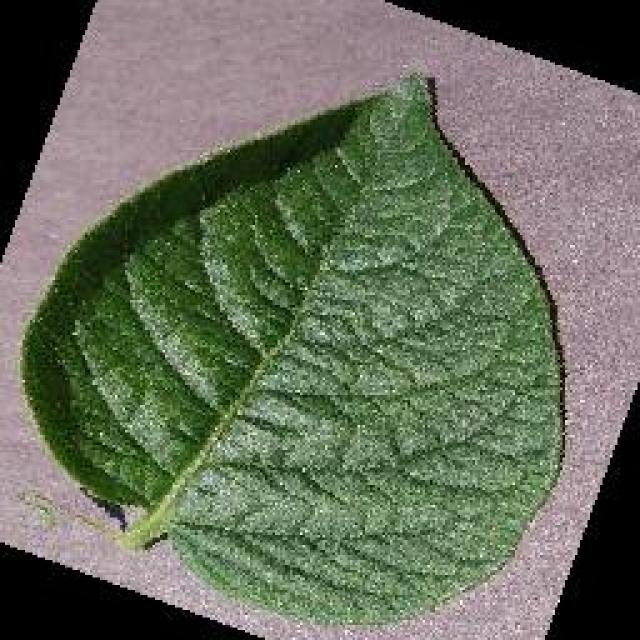Potato___healthy: (13, 70, 567, 629)
